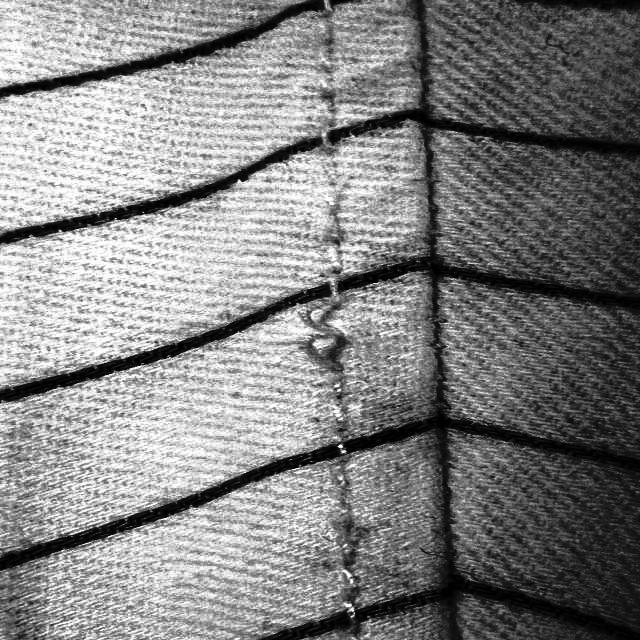Sewing_error: (292, 273, 362, 400)
